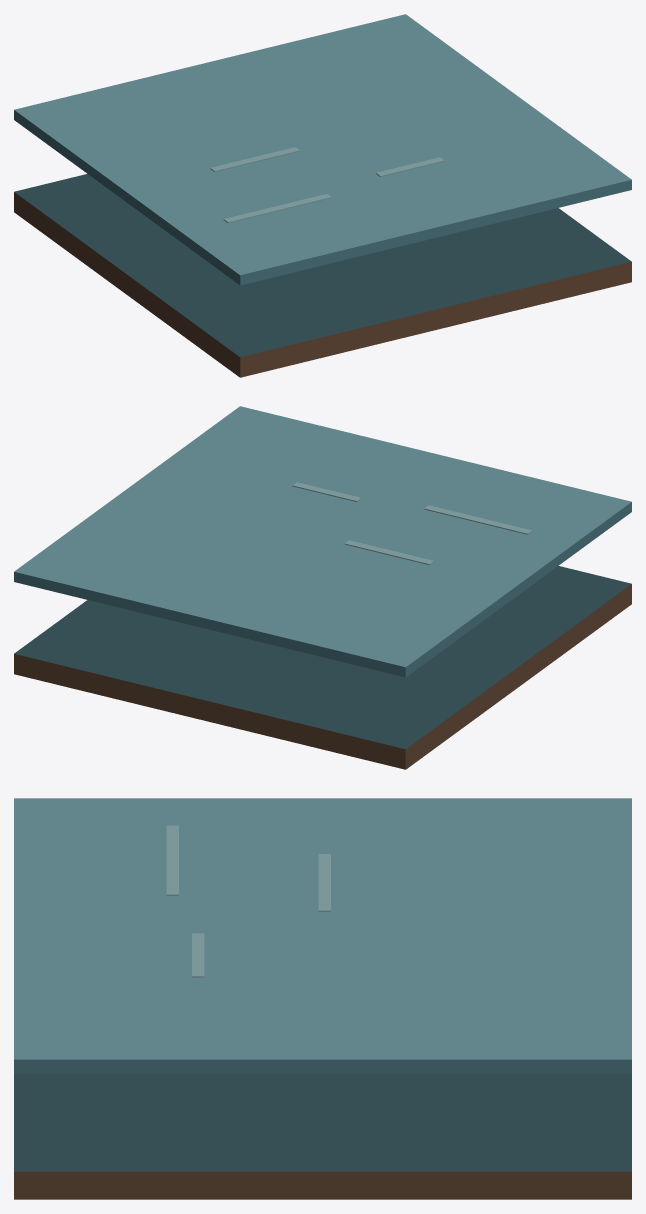
Rendered from t_water.glb.
The picture shows the model from 3 angles, top to bottom: view 1: azimuth 30°, elevation 25°; view 2: azimuth 150°, elevation 25°; view 3: azimuth 270°, elevation 25°; orthographic projection. The views are drawn at different scales.
Parts seen in each view (by area): view 1: t_water_water, t_water; view 2: t_water_water, t_water; view 3: t_water_water, t_water.
Boxes of the visible parts, left/top/right/bottom form: t_water_water: left=14, top=14, right=631, bottom=285; t_water: left=14, top=174, right=631, bottom=377; t_water_water: left=14, top=406, right=631, bottom=677; t_water: left=14, top=566, right=631, bottom=769; t_water_water: left=14, top=798, right=631, bottom=1073; t_water: left=14, top=1073, right=631, bottom=1199.
Size of the model in its own units: 2 by 0.507 by 2.
